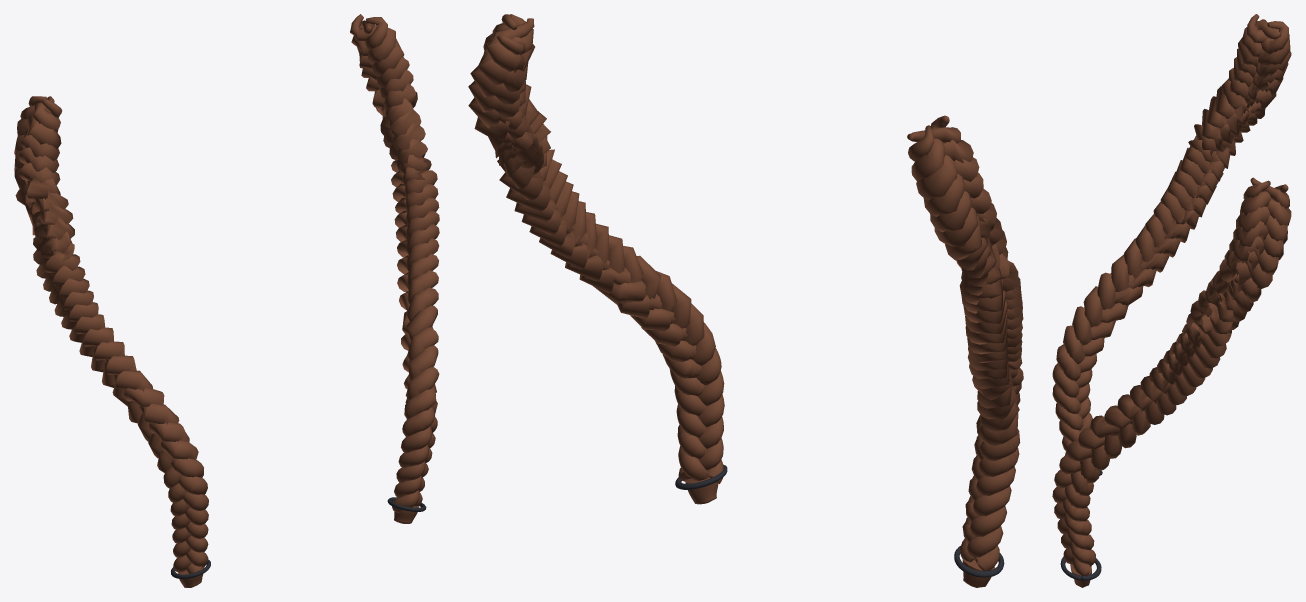
The model's file is twins-none-bandeau-default.glb.
3 renders of one model, left to right at view 1: azimuth 30°, elevation 25°; view 2: azimuth 150°, elevation 25°; view 3: azimuth 270°, elevation 25°, orthographic. The views are drawn at different scales.
Parts seen in each view (by area): view 1: 226 hairLengths / Hair / chestnut226; view 2: 226 hairLengths / Hair / chestnut226, 226 hairLengths / Hair / ties226; view 3: 226 hairLengths / Hair / chestnut226, 226 hairLengths / Hair / ties226.
Boxes of the visible parts, x1,y1,x2,y2 form: 226 hairLengths / Hair / chestnut226: (14, 14, 439, 587); 226 hairLengths / Hair / chestnut226: (468, 14, 1023, 587); 226 hairLengths / Hair / ties226: (675, 464, 1004, 577); 226 hairLengths / Hair / chestnut226: (1052, 14, 1291, 587); 226 hairLengths / Hair / ties226: (1060, 470, 1102, 580).
Size of the model in its own units: 0.8713 by 0.9282 by 0.4504.
